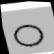no answer: (8, 16, 53, 52)
